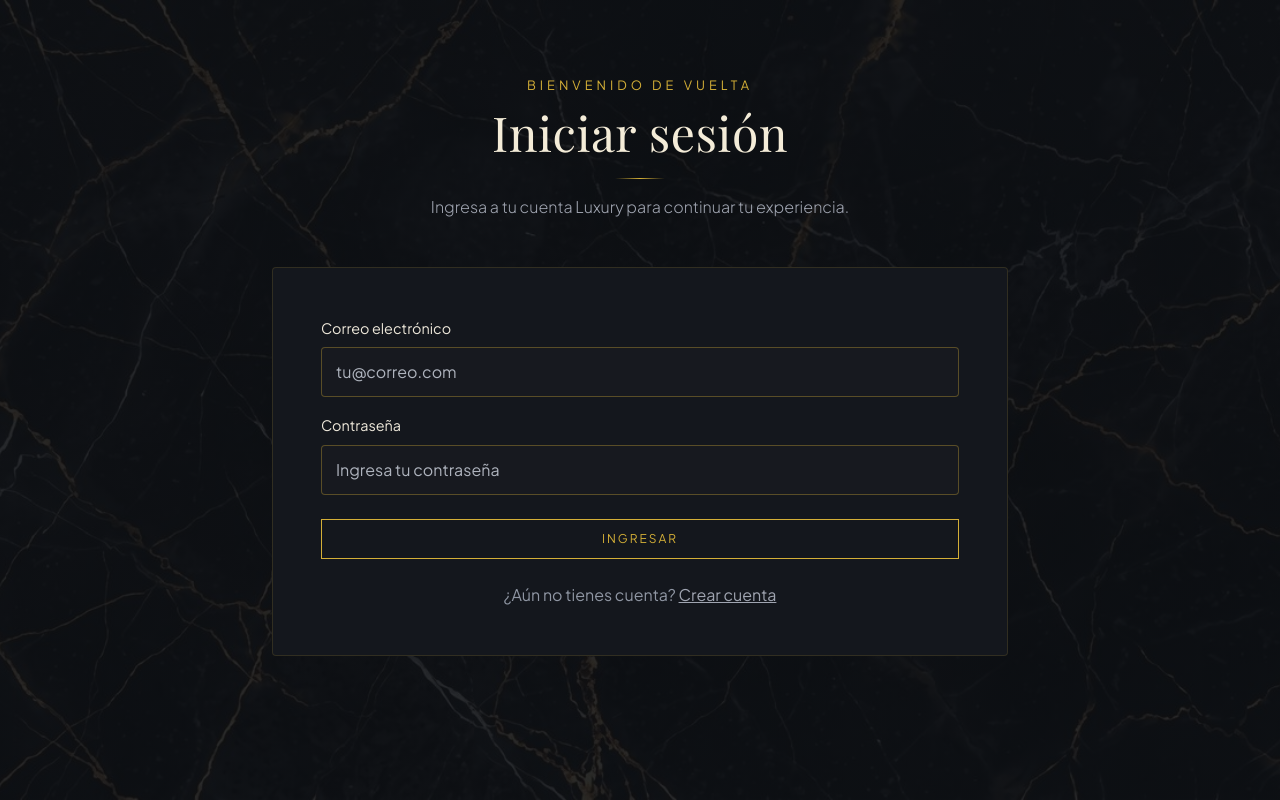
Scenario: Login (eventos) › muestra el error de credenciales en el campo correo cuando el inicio de sesión falla
In the field labelled "Correo electrónico": {"x": 640, "y": 372} [321, 347, 959, 397], type "noexiste@gmail.com"
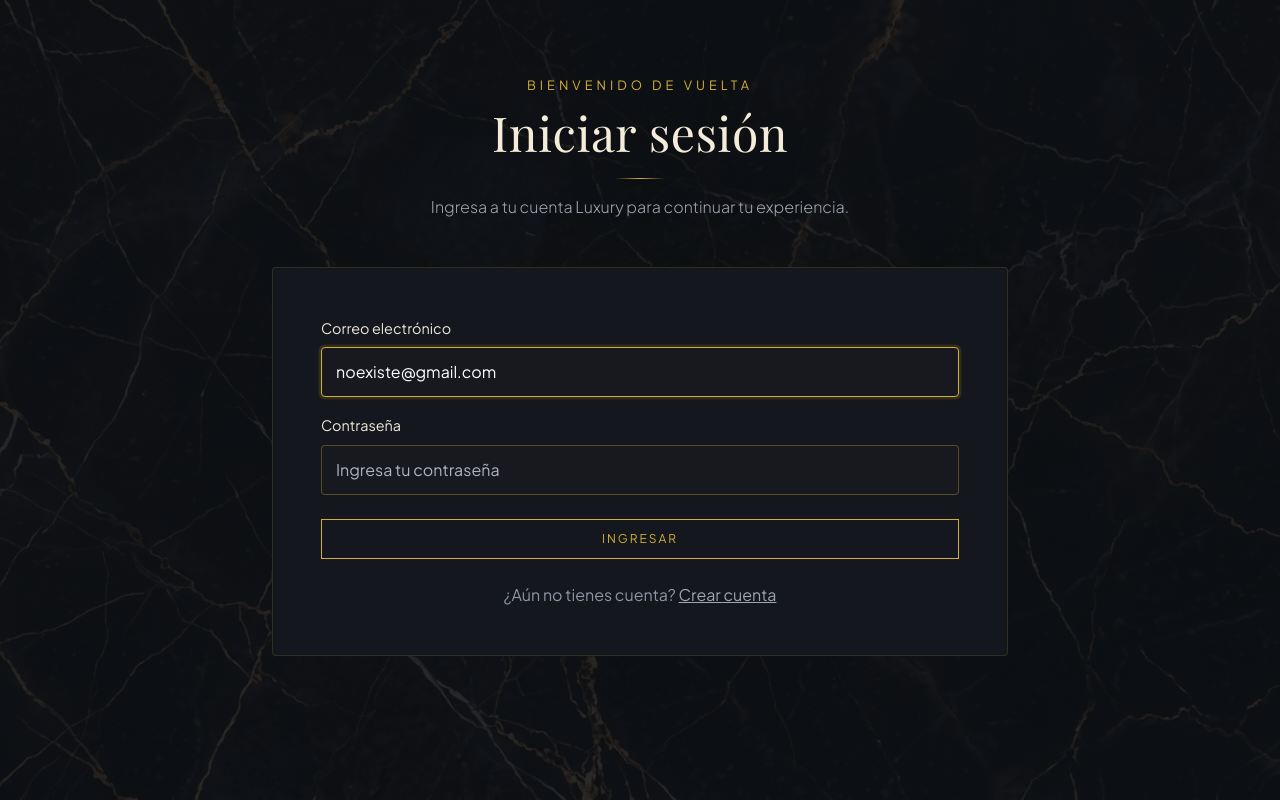
In the password field labelled "Contraseña": {"x": 640, "y": 470} [321, 445, 959, 495], type "incorrecta"
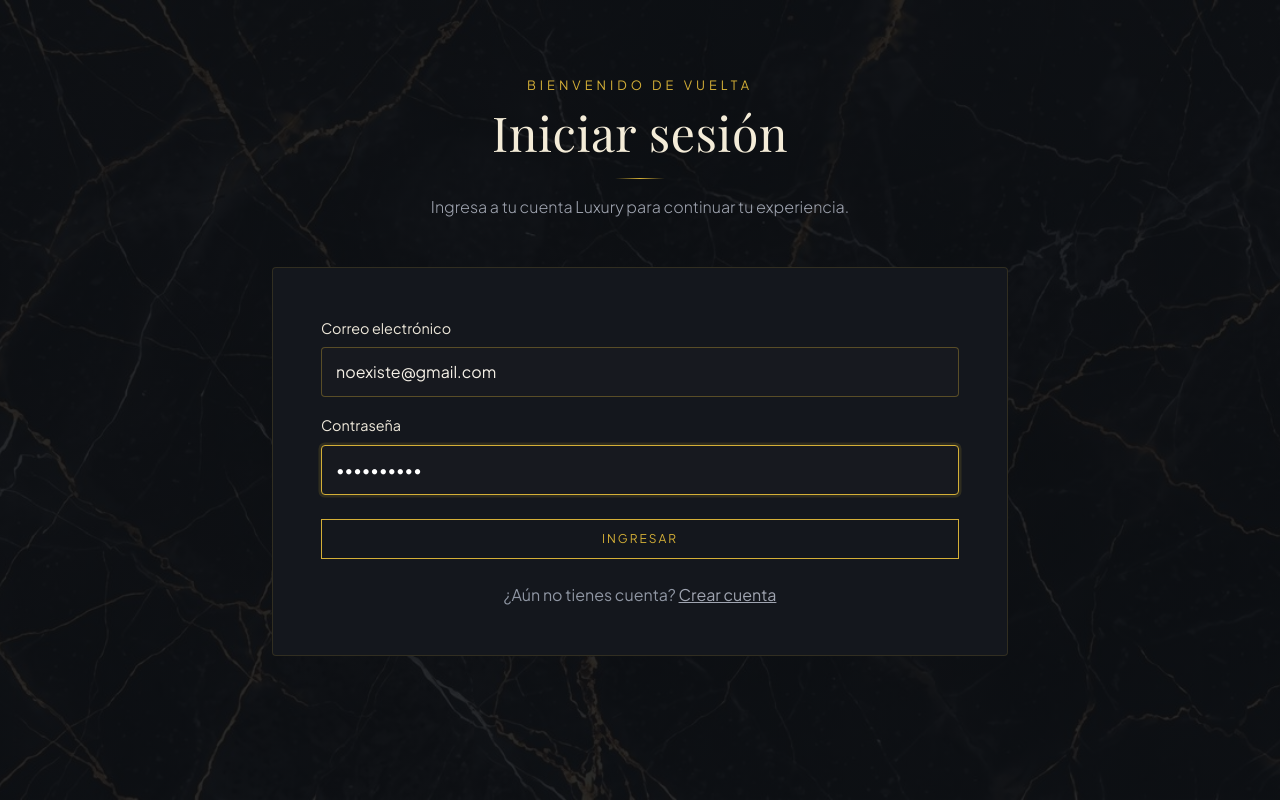
Click the button "Ingresar": {"x": 640, "y": 539} [321, 519, 959, 559]
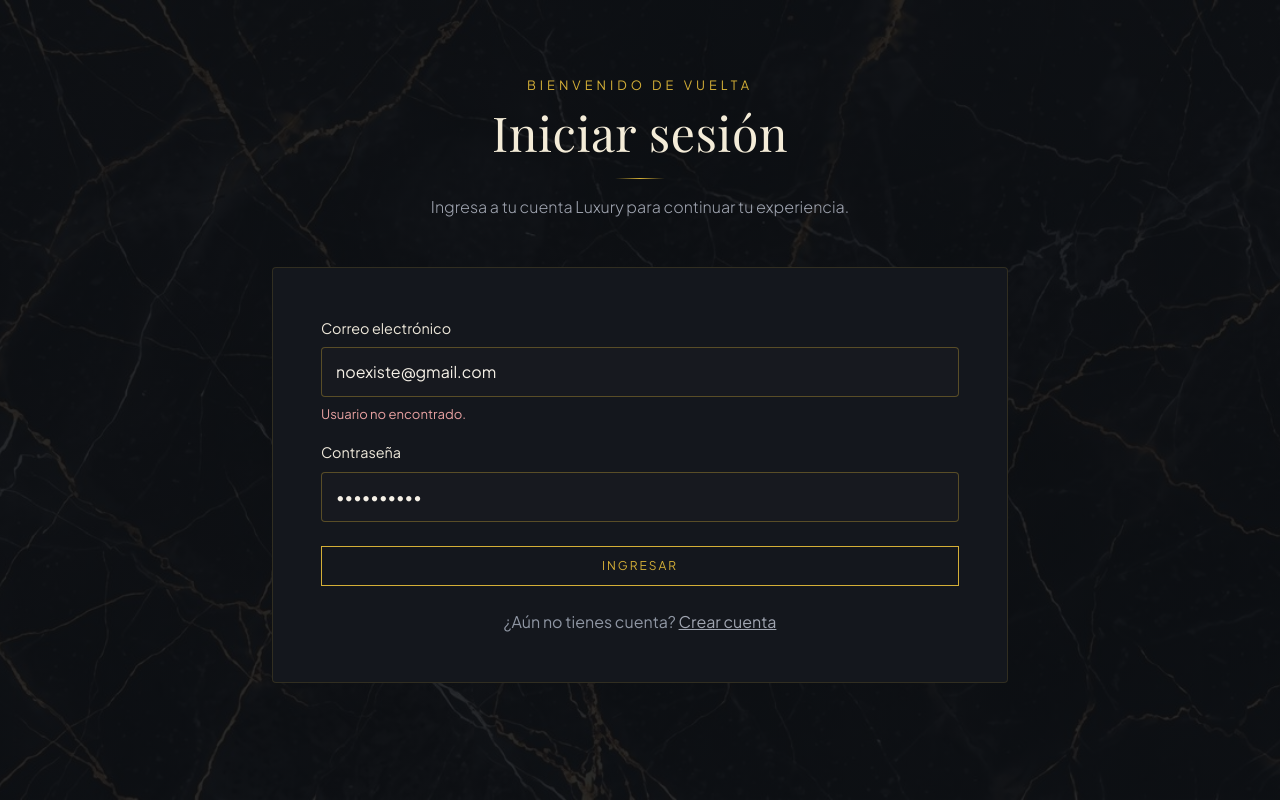
Expected: the text "Usuario no encontrado." is shown, [321, 406, 466, 422]
